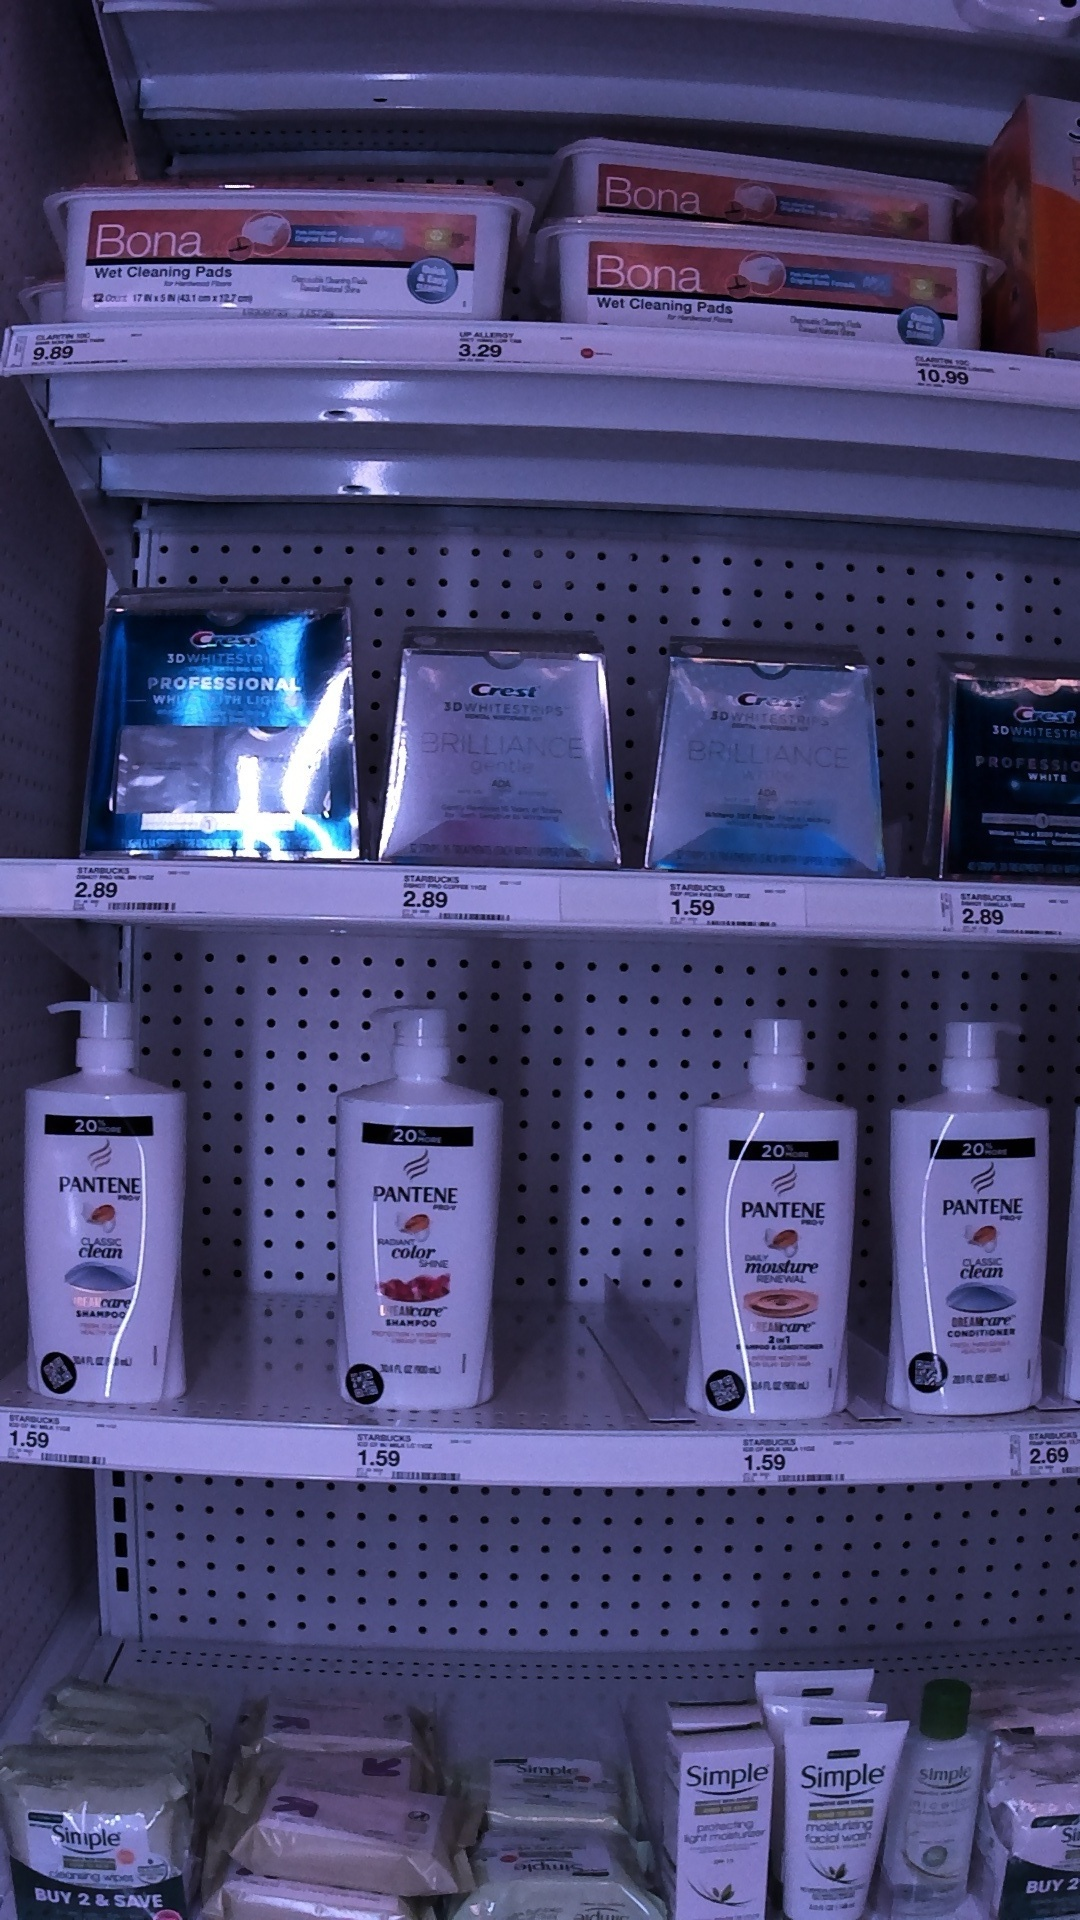ptag: (396, 864, 542, 935), (938, 882, 1077, 953), (665, 866, 793, 938), (71, 855, 200, 922), (451, 316, 604, 373), (902, 340, 1021, 404), (3, 320, 144, 369), (738, 1429, 860, 1486), (353, 1429, 475, 1484), (3, 1414, 120, 1469), (1002, 1415, 1080, 1485)
